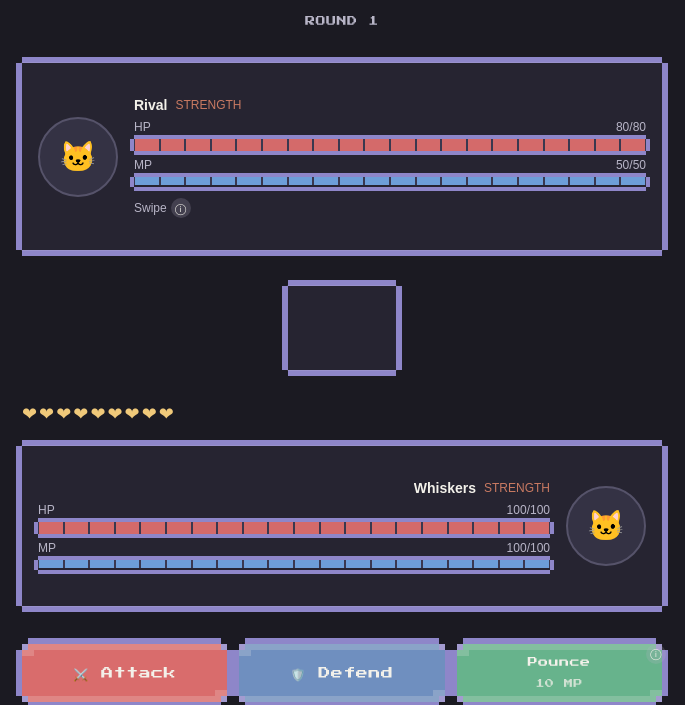
Test: BattlePage wiring into BattleArena/CatCard (statPanel, abilityList, pinnable) › the enemy ability list entry's Ability_Info_Panel content matches getEnemyAbilityInfoFields(ability)
Hover over the button with aria-label "swipe info".
mouse_move(162, 208)  # box [134,198,191,218]
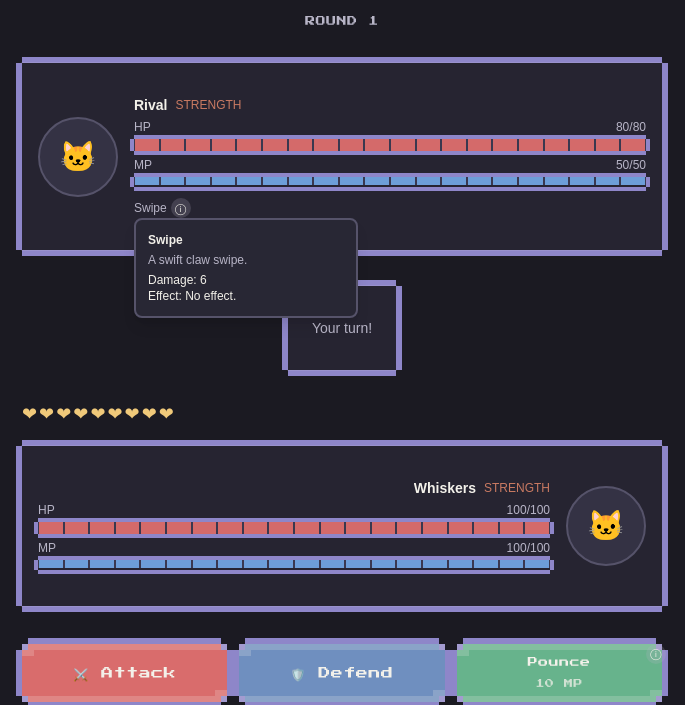
Expected: the tooltip shows "A swift claw swipe.", [148,253,247,267]
Expected: the tooltip shows "6", [200,273,207,287]
Expected: the tooltip shows "No effect.", [185,289,236,303]
